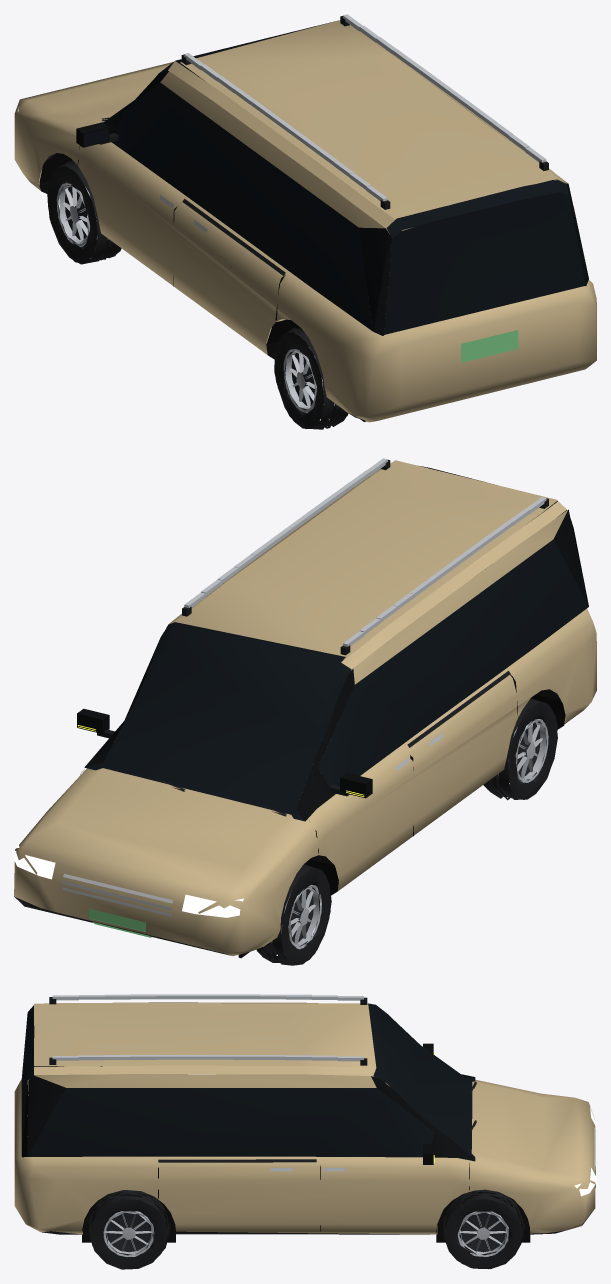
File: gz_mpv_lod2.glb
The picture shows the model from 3 angles, top to bottom: view 1: azimuth 30°, elevation 25°; view 2: azimuth 150°, elevation 25°; view 3: azimuth 270°, elevation 25°; orthographic projection. The views are drawn at different scales.
Parts seen in each view (by area): view 1: vehicle_lod2; view 2: vehicle_lod2; view 3: vehicle_lod2.
Boxes of the visible parts, x1=… form: vehicle_lod2: x1=14, y1=14, x2=596, y2=429; vehicle_lod2: x1=14, y1=458, x2=596, y2=965; vehicle_lod2: x1=14, y1=994, x2=596, y2=1269.
Size of the model in its own units: 2.22 by 1.89 by 4.97.
